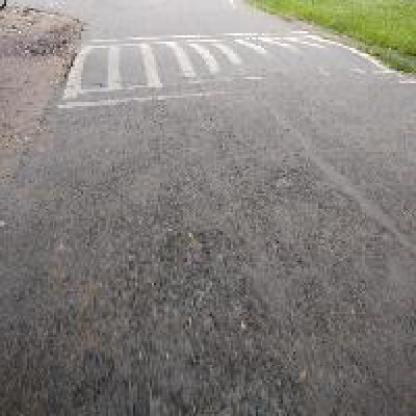Speed Bump: (56, 27, 410, 112)
